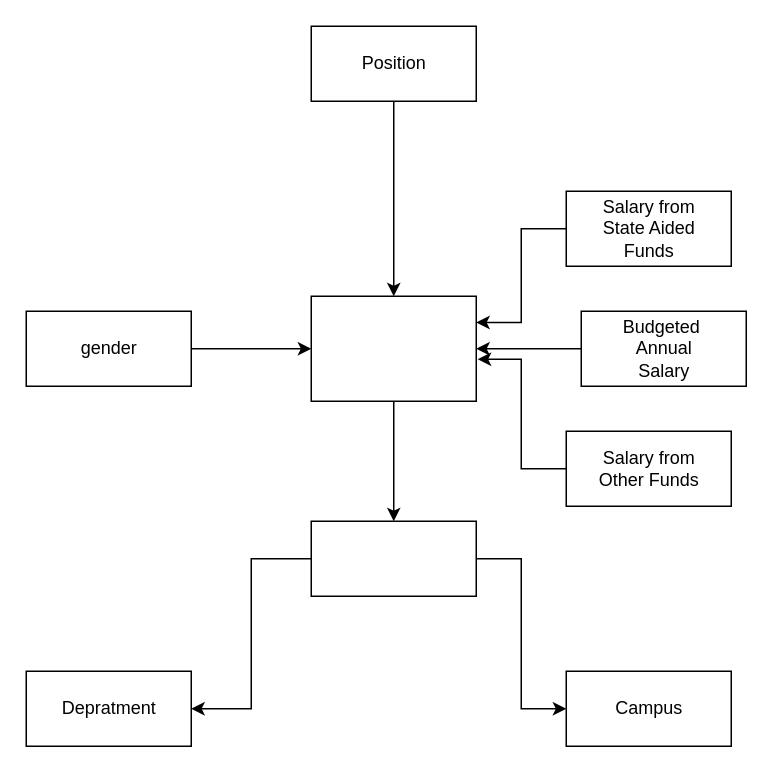
This 773x773 diagram has some shape labels left out. The shapes that lost their labels are listed below. From the top down, each one's box as (x1, y1, x2, y2) in pixels, then its label:
(310, 295, 476, 401): Professor
(310, 520, 476, 596): CampusDepartment
